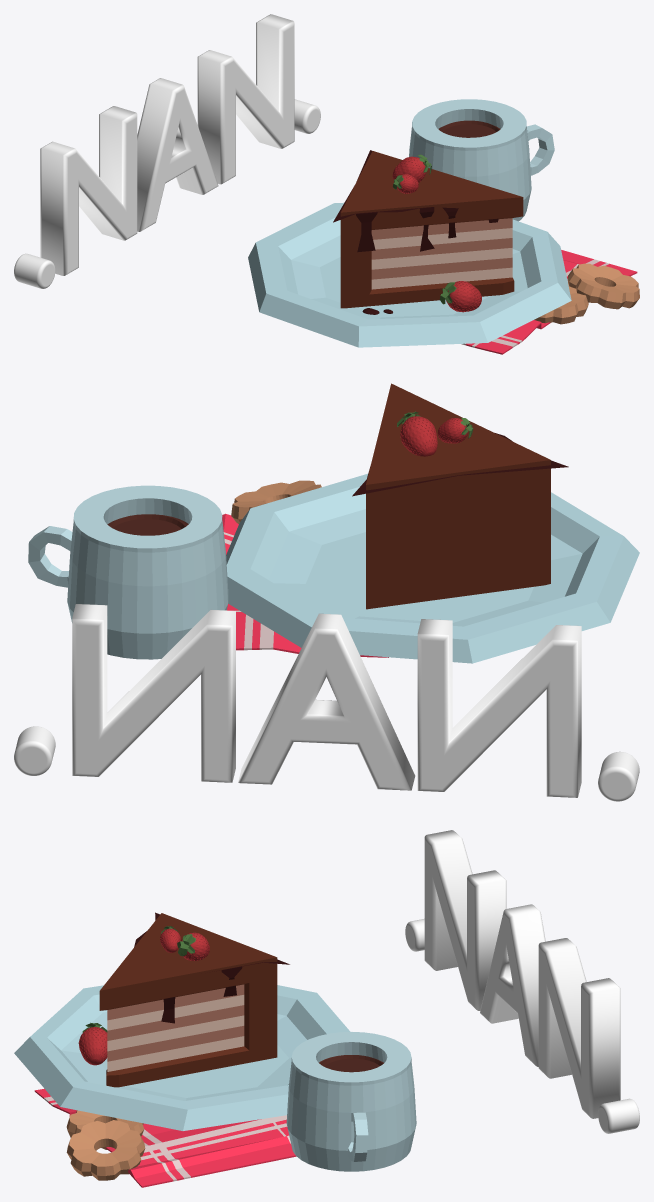
File: cake.gltf
3 views of the same model, one above another, from view 1: azimuth 30°, elevation 25°; view 2: azimuth 150°, elevation 25°; view 3: azimuth 270°, elevation 25° (orthographic). The views are drawn at different scales.
Visible parts, largest first — view 1: Text, plate, cake, mug, cookie_1, placemat, Plane, cookie_2, chocolate, strawberry, strawberry.001; view 2: Text, plate, cake, mug, placemat, cookie_1, chocolate, strawberry.001, Plane, strawberry.002; view 3: Text, cake, plate, mug, placemat, cookie_1, strawberry, chocolate, cookie_2, Plane.
Part boxes in pixels (<box>): Text: <box>14,14,320,288</box>; plate: <box>248,202,571,347</box>; cake: <box>340,151,523,308</box>; mug: <box>409,99,554,221</box>; cookie_1: <box>567,263,639,309</box>; placemat: <box>461,250,637,354</box>; Plane: <box>333,150,498,252</box>; cookie_2: <box>534,283,588,324</box>; chocolate: <box>438,120,500,137</box>; strawberry: <box>446,281,481,312</box>; strawberry.001: <box>392,156,425,182</box>; Text: <box>14,604,639,801</box>; plate: <box>226,473,639,663</box>; cake: <box>366,383,550,609</box>; mug: <box>28,485,228,659</box>; placemat: <box>222,513,388,657</box>; cookie_1: <box>231,480,321,523</box>; chocolate: <box>107,514,188,535</box>; strawberry.001: <box>400,416,437,456</box>; Plane: <box>352,433,568,496</box>; strawberry.002: <box>437,418,468,443</box>; Text: <box>405,830,639,1133</box>; cake: <box>99,913,277,1087</box>; plate: <box>14,985,350,1130</box>; mug: <box>286,1032,416,1171</box>; placemat: <box>34,1088,296,1187</box>; cookie_1: <box>66,1120,145,1180</box>; strawberry: <box>78,1027,107,1065</box>; chocolate: <box>319,1055,383,1072</box>; cookie_2: <box>66,1110,143,1149</box>; Plane: <box>134,912,289,1023</box>.
Size of what is drawn, in the model's own units: 3.14 by 0.9106 by 3.24.
